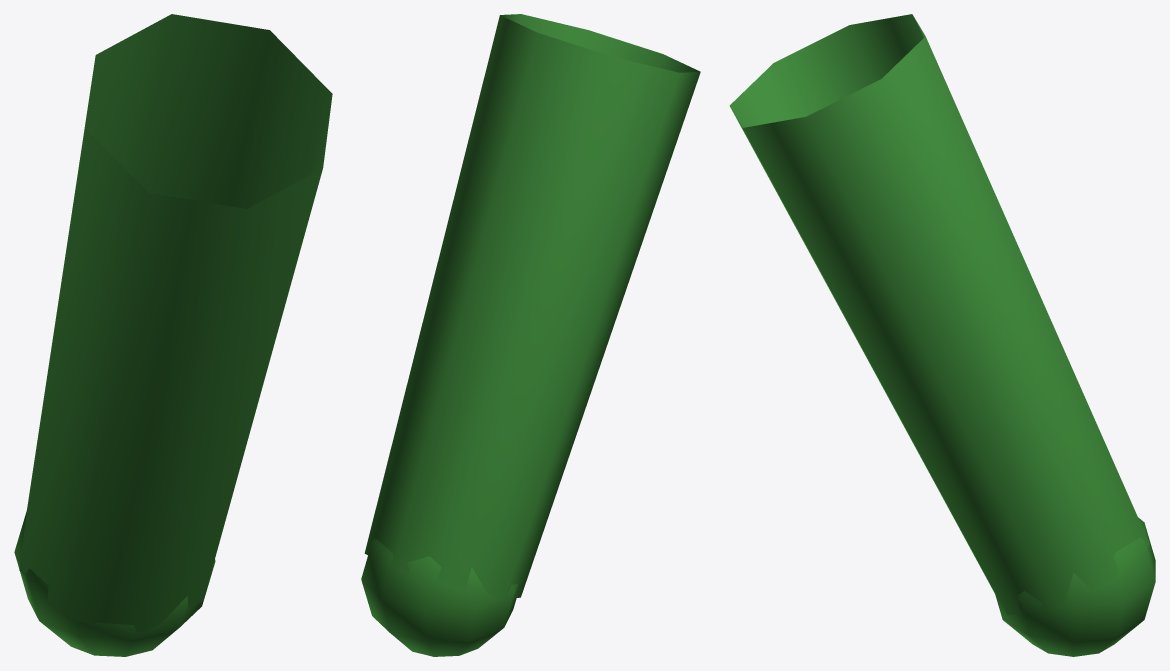
The model's file is Kameleon_Limb2L.fbx.
The picture shows the model from 3 angles, left to right: view 1: azimuth 30°, elevation 25°; view 2: azimuth 150°, elevation 25°; view 3: azimuth 270°, elevation 25°; orthographic projection. The views are drawn at different scales.
Parts seen in each view (by area): view 1: Kameleon_Limb2L; view 2: Kameleon_Limb2L; view 3: Kameleon_Limb2L.
Part boxes in pixels (left/top/right/bottom): Kameleon_Limb2L: left=14, top=14, right=332, bottom=656; Kameleon_Limb2L: left=361, top=14, right=700, bottom=656; Kameleon_Limb2L: left=729, top=14, right=1155, bottom=656.
Size of the model in its own units: 0.1983 by 0.5386 by 0.3463.
